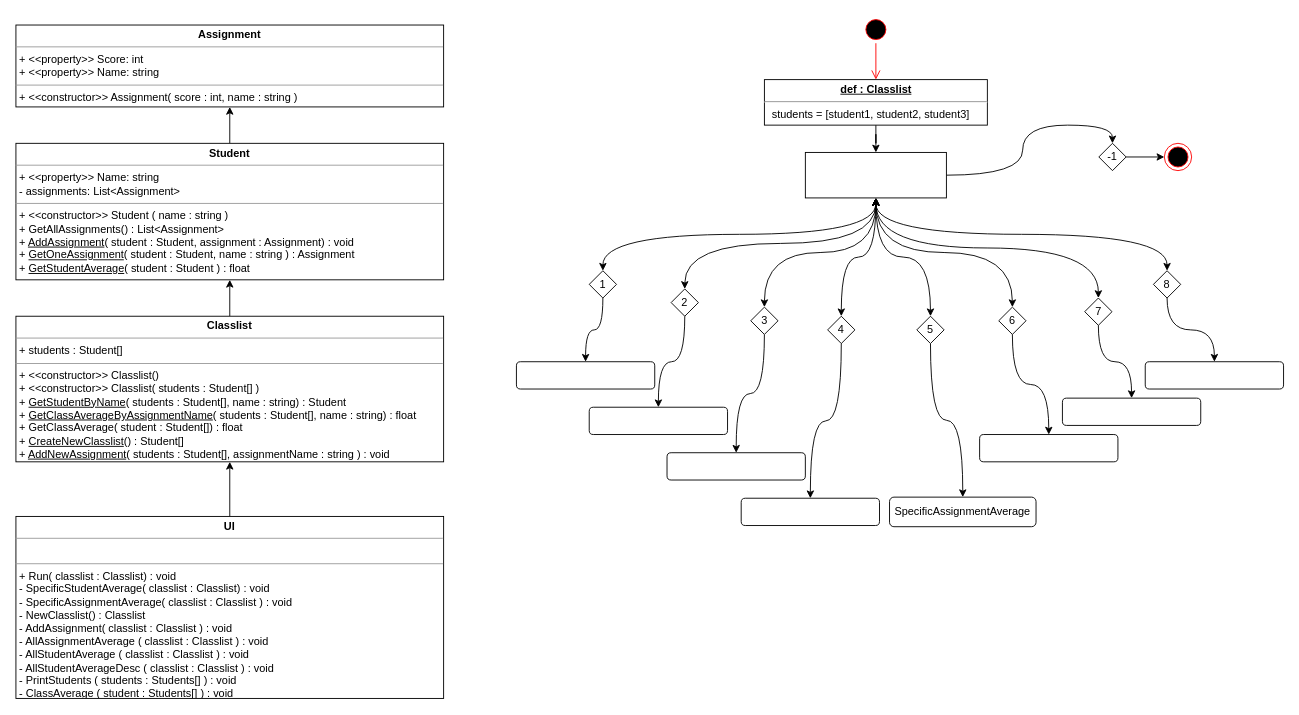
This 1299x715 diagram has some shape labels left out. The shapes that lost their labels are listed below. From the top down, each one's centre as x and y in pixels, then its label:
(875,175): UI Classlist = def
(585,375): AllAssignmentAverage
(1214,375): AddAssignment
(658,420): AllStudentAverage
(1131,411): NewClasslist
(735,466): AllStudentAverageDesc
(1048,448): SpecificStudentAverage
(810,511): ClassAverage
